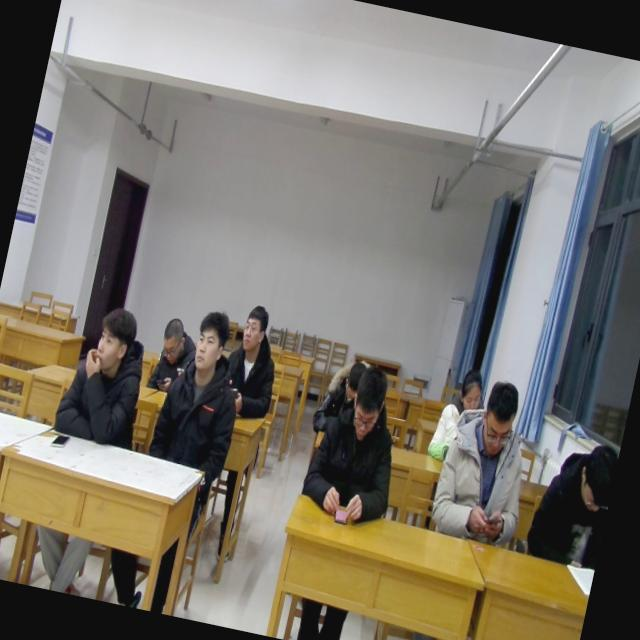bow: (306, 344, 372, 443)
down: (471, 374, 528, 461), (565, 430, 619, 520), (345, 360, 396, 444), (153, 314, 189, 368), (454, 362, 489, 414), (335, 352, 367, 406)
lookup: (87, 300, 145, 380), (185, 302, 234, 380), (236, 297, 274, 355)
sit: (296, 353, 418, 530), (426, 372, 546, 551), (142, 300, 258, 476), (48, 295, 164, 455), (521, 431, 620, 575), (213, 299, 292, 425), (423, 358, 494, 470)
